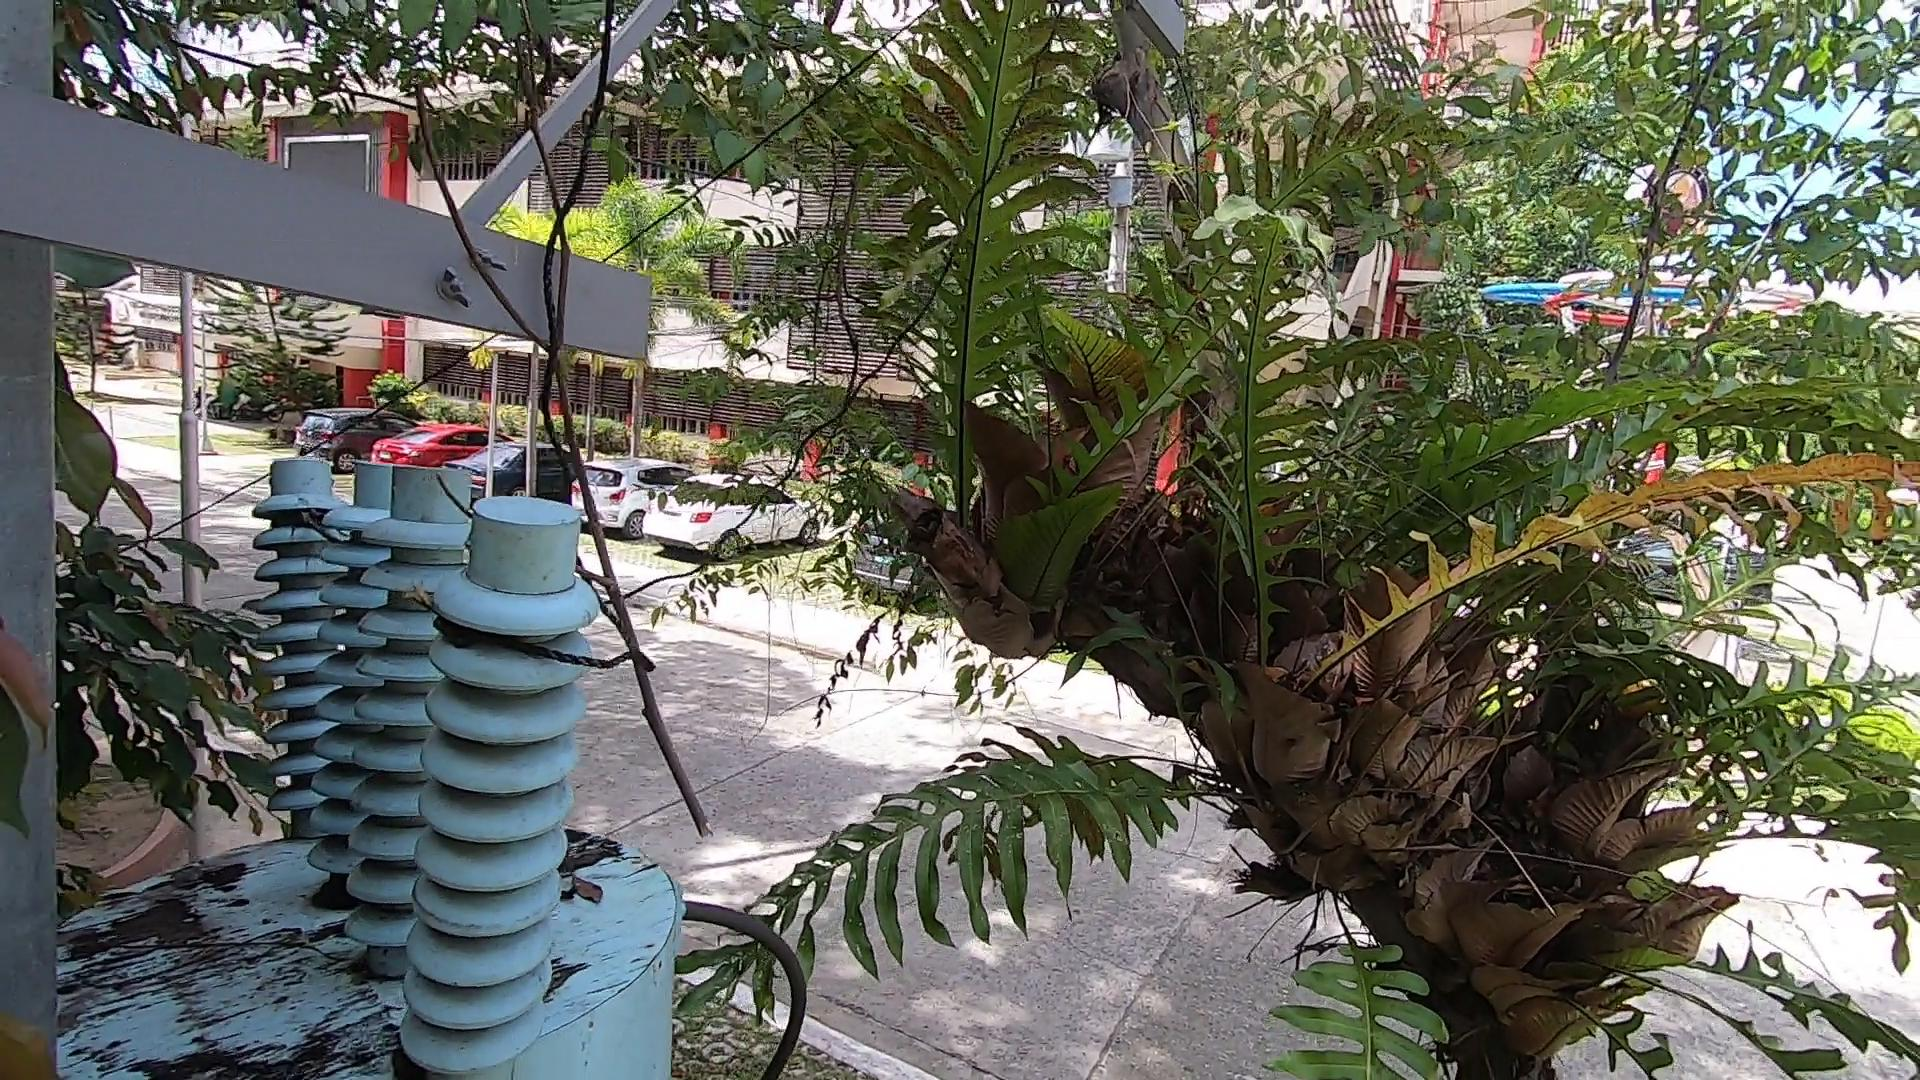leaf: (560, 868, 618, 924), (560, 818, 611, 866)
tree branch: (397, 7, 736, 851)
